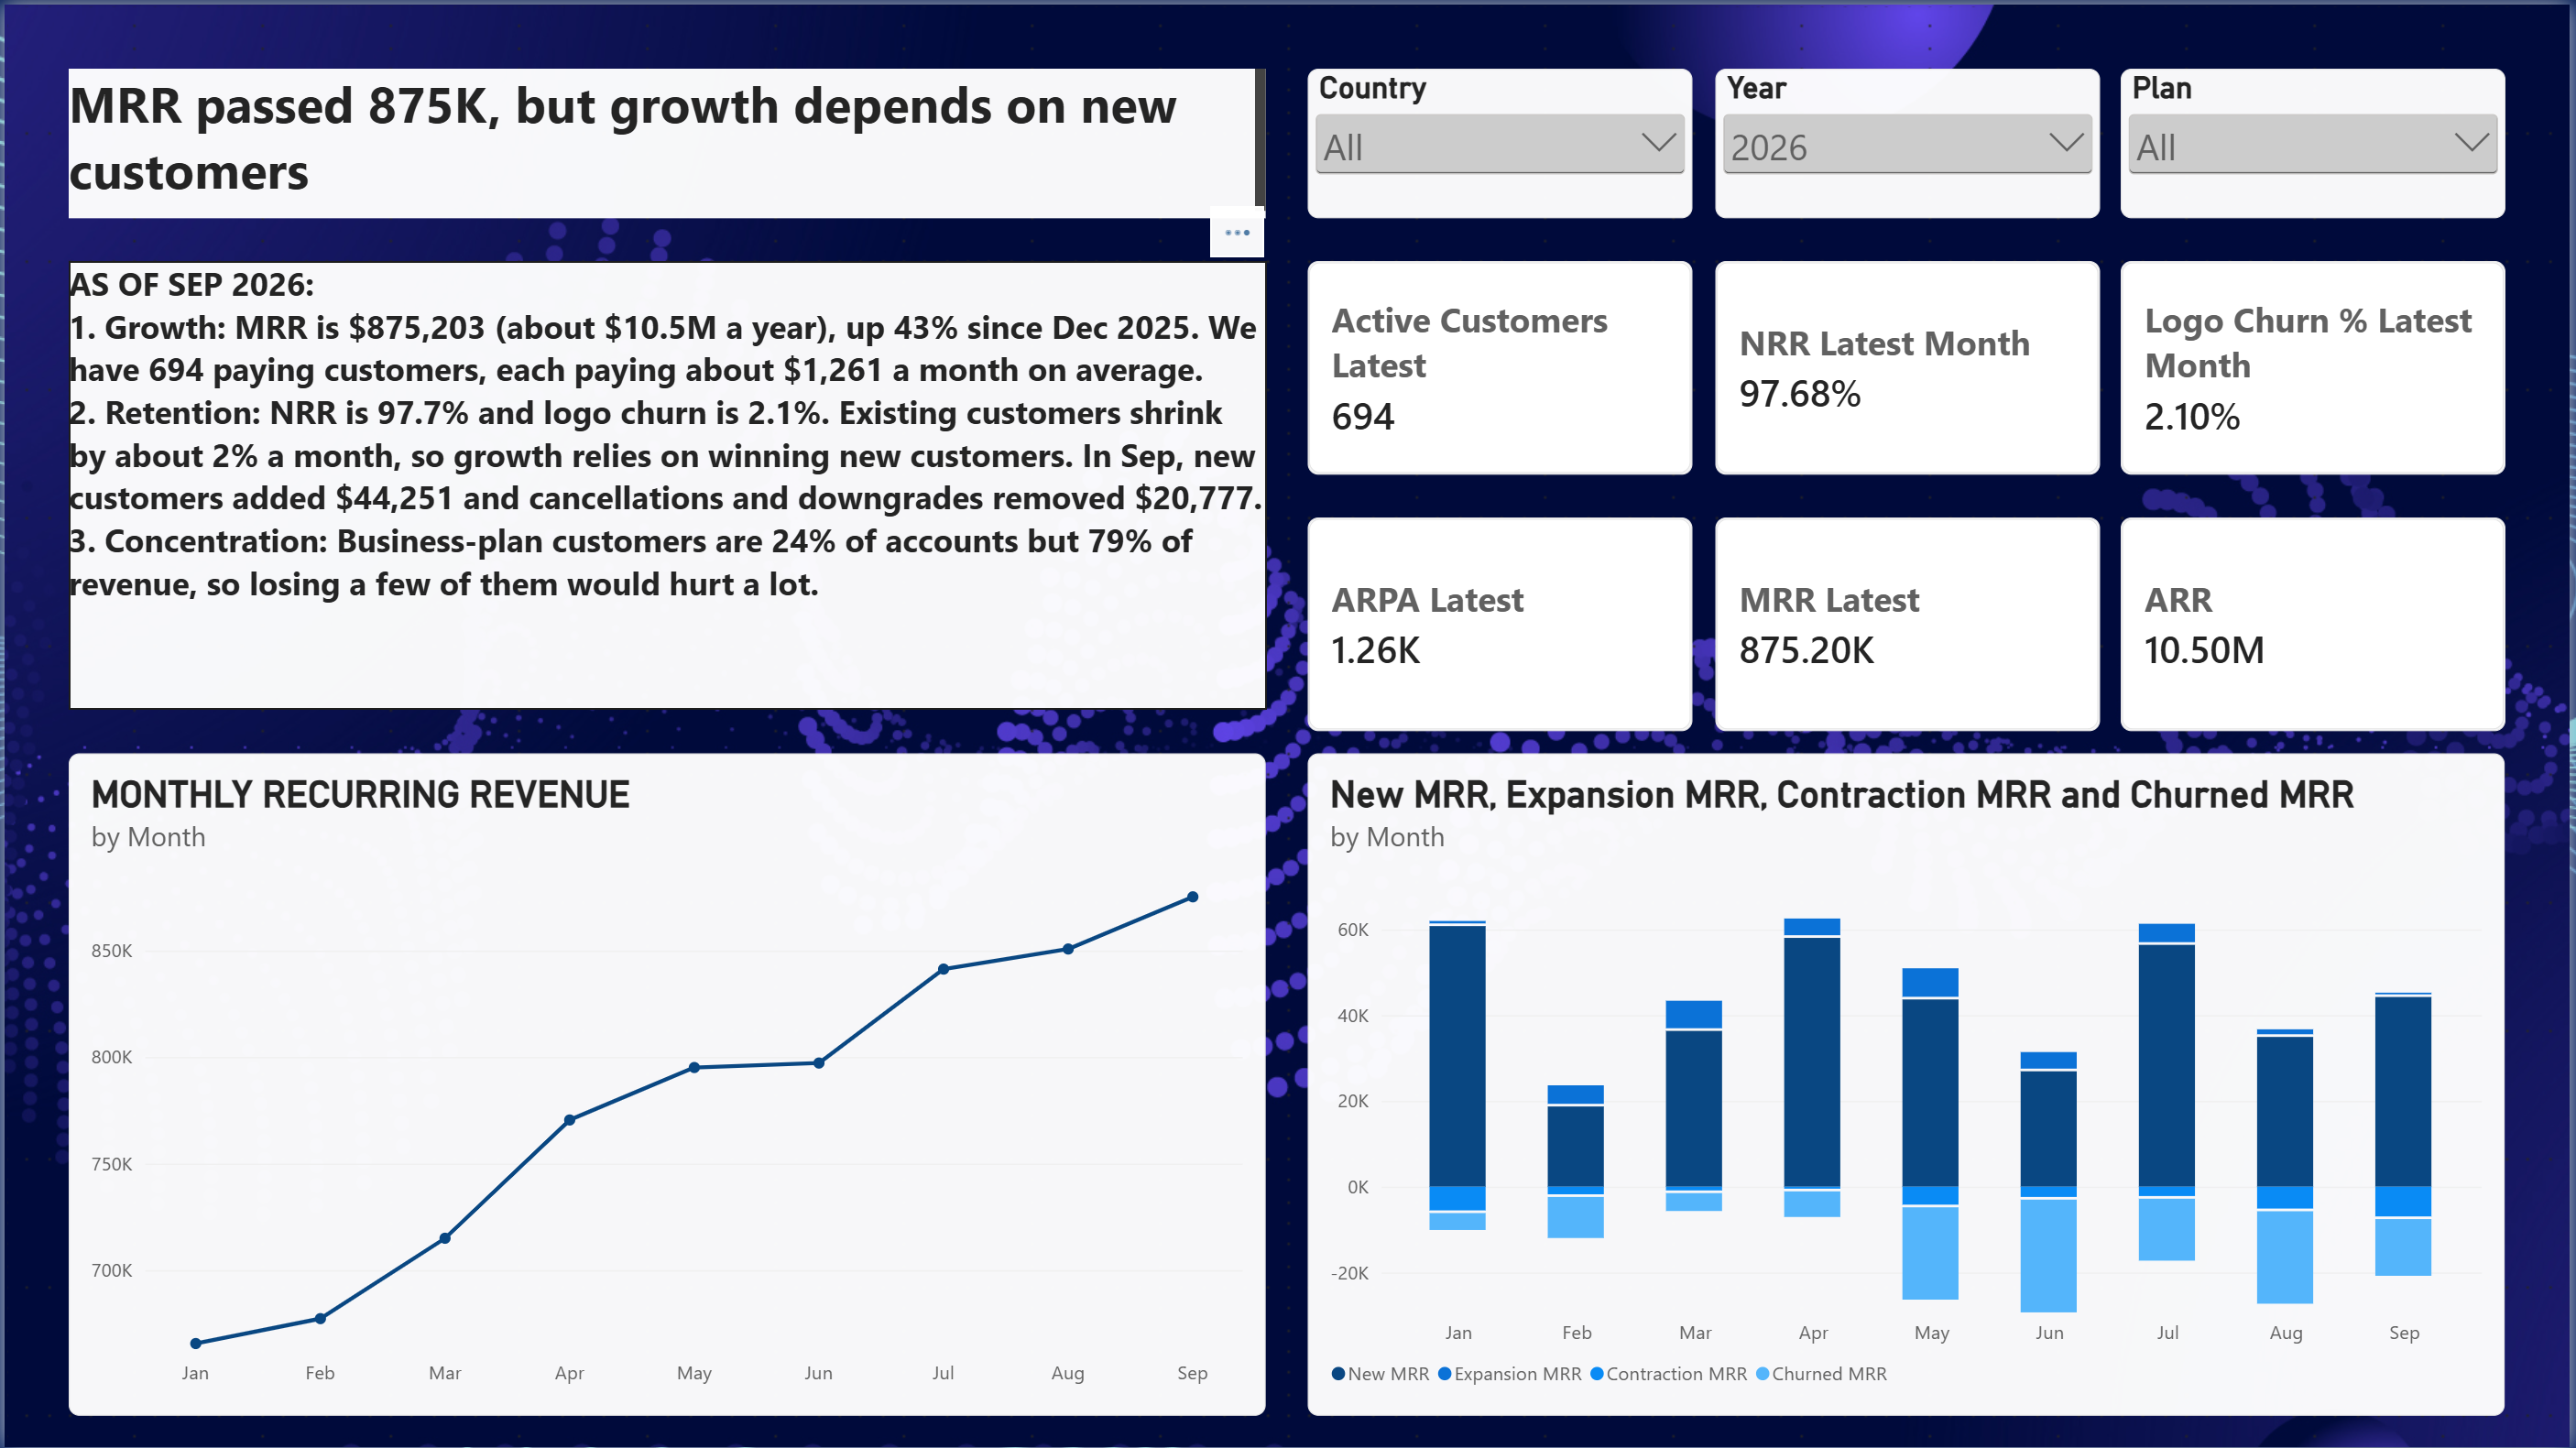

This screenshot's page, from the dashboard's own definition file:
{"tool":"powerbi","page":{"name":"Executive Overview","canvas":[1920,1080],"ordinal":0},"visuals":[{"type":"cardVisual","fields":{"Data":["core_measures.MRR Latest"]},"box":[1280,384,288,160],"z":0},{"type":"cardVisual","fields":{"Data":["core_measures.ARR"]},"box":[1584,384,288,160],"z":1000},{"type":"cardVisual","fields":{"Data":["latest_month.NRR Latest Month"]},"box":[1280,192,288,160],"z":2000},{"type":"cardVisual","fields":{"Data":["latest_month.Logo Churn % Latest Month"]},"box":[1584,192,288,160],"z":3000},{"type":"lineChart","title":"MONTHLY RECURRING REVENUE","fields":{"Y":["Sum(mrr_monthly.mrr)"],"Category":["Date.Month"]},"box":[48,560,896,496],"z":4000},{"type":"columnChart","fields":{"Category":["Date.Month"],"Y":["core_measures.New MRR","core_measures.Expansion MRR","core_measures.Contraction MRR","core_measures.Churned MRR"]},"box":[976,560,896,496],"z":5000},{"type":"cardVisual","fields":{"Data":["latest_month.ARPA Latest"]},"box":[976,384,288,160],"z":6000},{"type":"cardVisual","fields":{"Data":["latest_month.Active Customers Latest"]},"box":[976,192,288,160],"z":7000},{"type":"slicer","fields":{"Values":["customers.country"]},"box":[976,48,288,112],"z":8000},{"type":"slicer","fields":{"Values":["Date.Year"]},"box":[1280,48,288,112],"z":9000},{"type":"slicer","fields":{"Values":["plans.plan"]},"box":[1584,48,288,112],"z":10000},{"type":"textbox","box":[48,48,896,112],"z":11000},{"type":"textbox","box":[48,192,896,336],"z":12000}]}

Visuals, with their boxes in screenshot pixels (x1, y1, x2, y2), scaled from the page's 1920x1080 canvas onto the 2576x1448 screenshot:
cardVisual - core_measures.MRR Latest: box=[1718, 515, 2103, 729]
cardVisual - core_measures.ARR: box=[2125, 515, 2512, 729]
cardVisual - latest_month.NRR Latest Month: box=[1718, 257, 2103, 472]
cardVisual - latest_month.Logo Churn % Latest Month: box=[2125, 257, 2512, 472]
"MONTHLY RECURRING REVENUE" lineChart: box=[64, 751, 1267, 1416]
columnChart - Date.Month x core_measures.New MRR: box=[1309, 751, 2512, 1416]
cardVisual - latest_month.ARPA Latest: box=[1309, 515, 1696, 729]
cardVisual - latest_month.Active Customers Latest: box=[1309, 257, 1696, 472]
slicer - customers.country: box=[1309, 64, 1696, 214]
slicer - Date.Year: box=[1718, 64, 2103, 214]
slicer - plans.plan: box=[2125, 64, 2512, 214]
textbox: box=[64, 64, 1267, 214]
textbox: box=[64, 257, 1267, 708]
